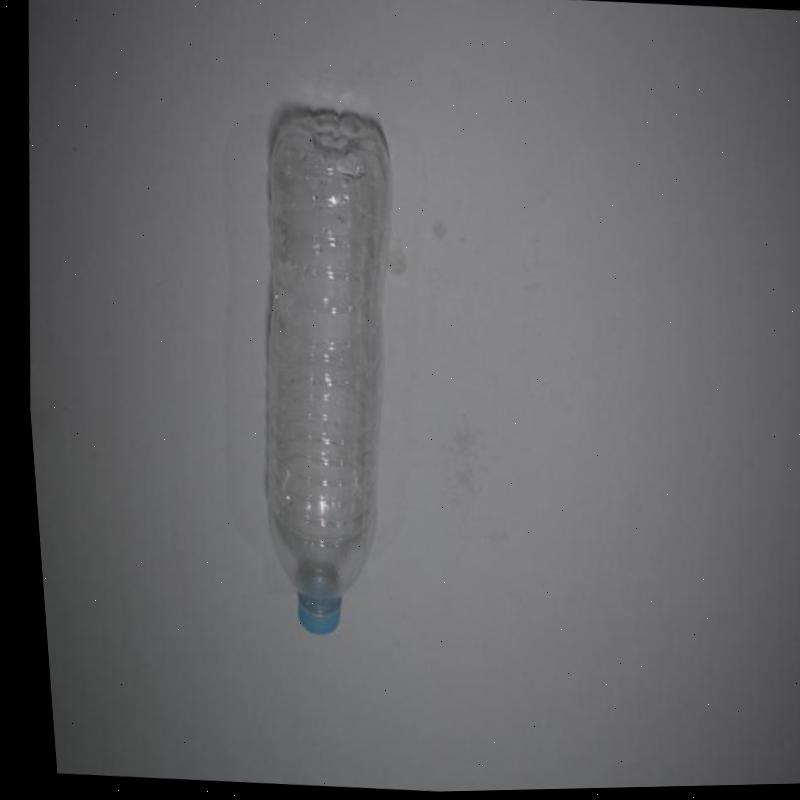botella: (225, 107, 420, 640)
